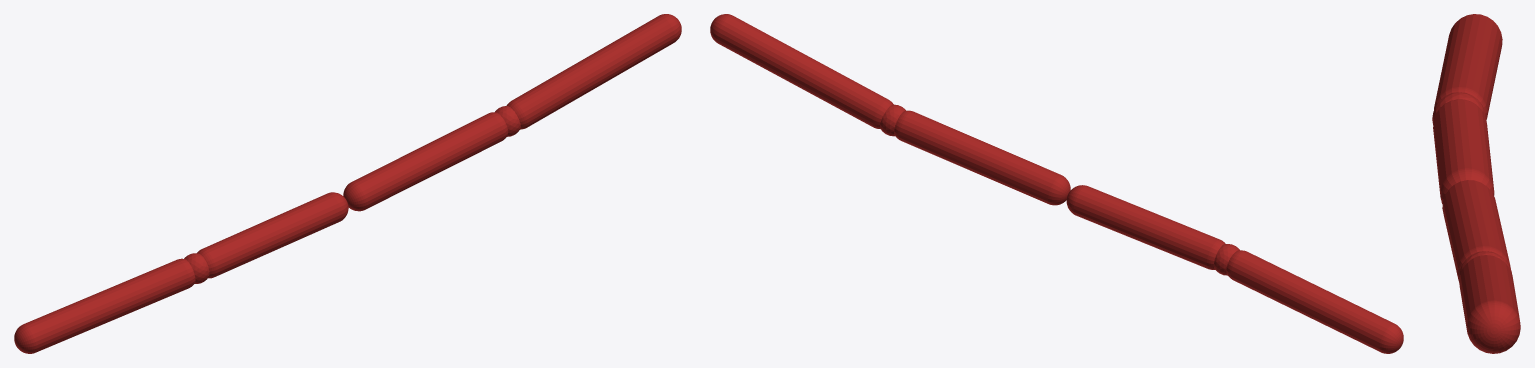
The model's file is dranmar_protected_vessel.glb.
3 renders of one model, left to right at view 1: azimuth 30°, elevation 25°; view 2: azimuth 150°, elevation 25°; view 3: azimuth 270°, elevation 25°, orthographic. The views are drawn at different scales.
Parts seen in each view (by area): view 1: protected_vessel_right, protected_vessel_left; view 2: protected_vessel_right, protected_vessel_left; view 3: protected_vessel_left, protected_vessel_right.
Boxes of the visible parts, bbox=[...] form: protected_vessel_right: bbox=[343, 14, 681, 211]; protected_vessel_left: bbox=[14, 192, 348, 353]; protected_vessel_right: bbox=[710, 14, 1070, 205]; protected_vessel_left: bbox=[1066, 185, 1403, 353]; protected_vessel_left: bbox=[1432, 14, 1502, 203]; protected_vessel_right: bbox=[1442, 180, 1520, 353].
Bounding box in the file's own units: 0.1532 × 0.0387 × 0.0101.
